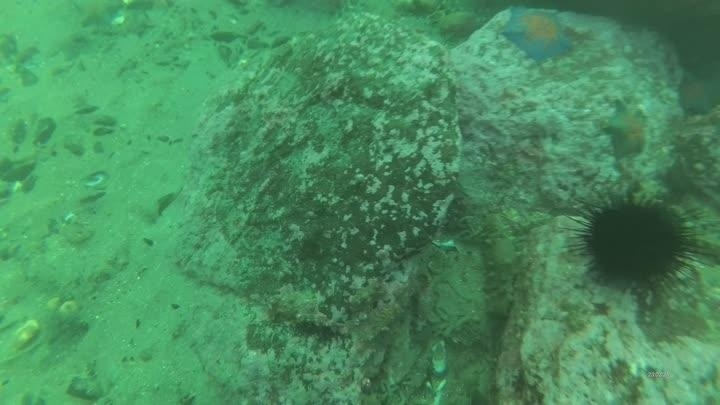echinus: (568, 188, 706, 298)
holothurian: (478, 206, 525, 320)
starfish: (499, 5, 576, 64), (600, 99, 652, 160), (673, 71, 720, 118), (68, 1, 127, 31)
